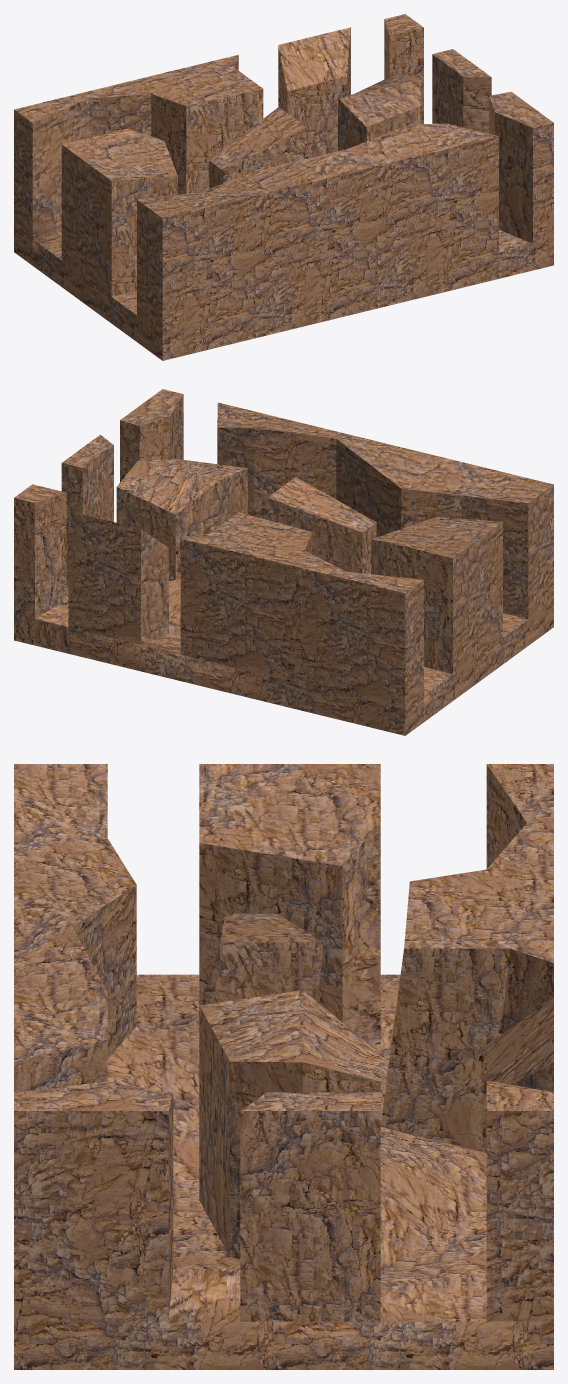
File: Canyon2.fbx
3 views of the same model, one above another, from view 1: azimuth 30°, elevation 25°; view 2: azimuth 150°, elevation 25°; view 3: azimuth 270°, elevation 25° (orthographic). The views are drawn at different scales.
Parts seen in each view (by area): view 1: Canyon2; view 2: Canyon2; view 3: Canyon2.
Boxes of the visible parts, x1,y1,x2,y2 form: Canyon2: (14, 14, 553, 360); Canyon2: (14, 389, 553, 735); Canyon2: (14, 764, 553, 1369).
Size of what is drawn, in the model's own units: 36.02 by 13.29 by 23.7.
